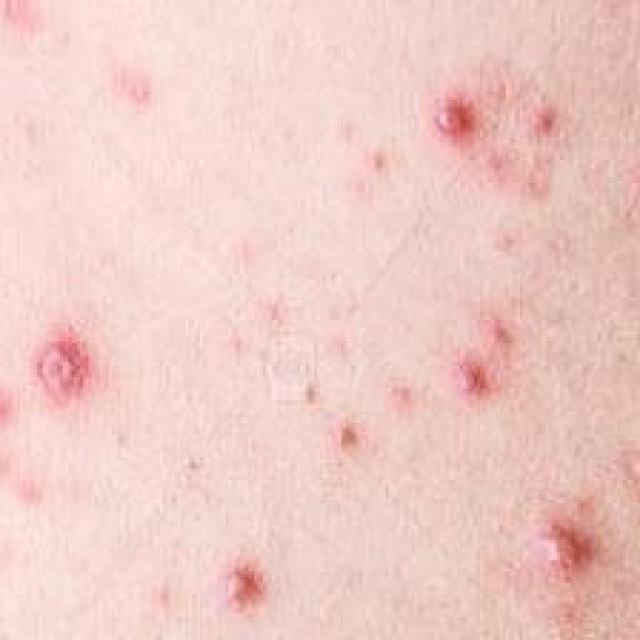others: (26, 51, 600, 640)
